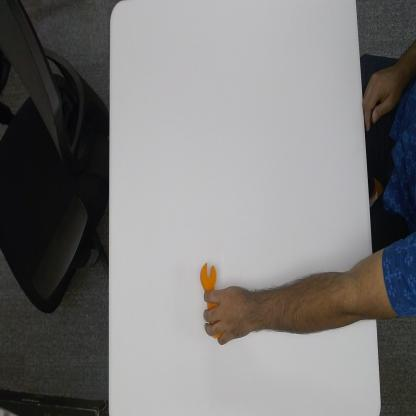Arm: (259, 243, 385, 340)
Hand: (198, 284, 257, 348)
Screwdriver: (200, 258, 218, 294)
